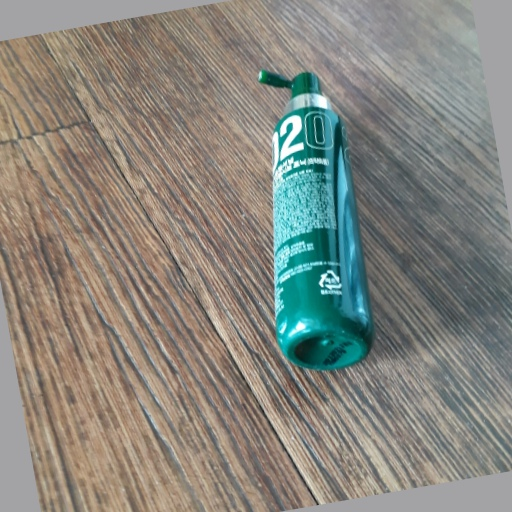Plastic_3: (257, 63, 374, 372)
